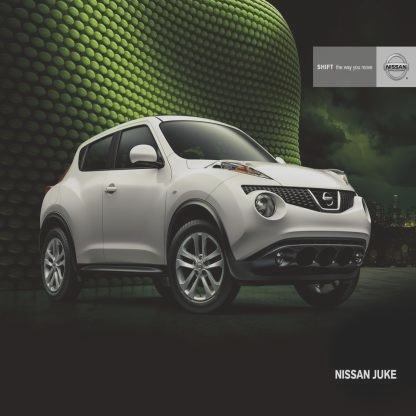Vehicle: (37, 112, 374, 320)
